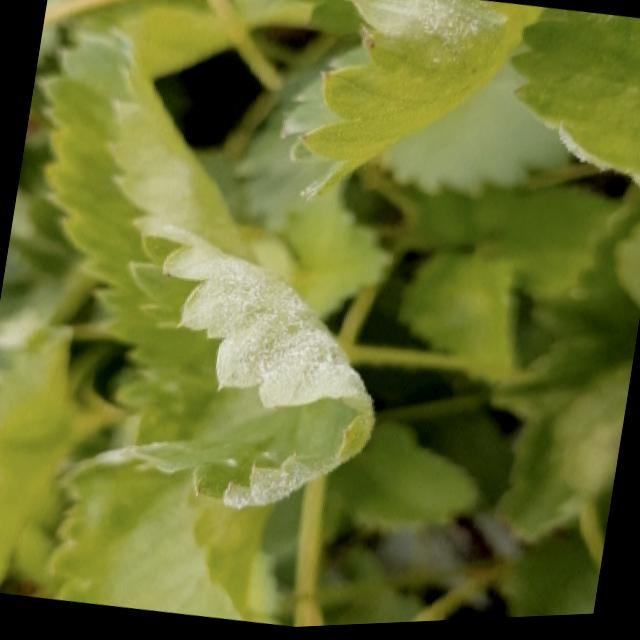Powdery Mildew Leaf: (127, 227, 377, 512), (279, 0, 542, 204), (507, 12, 640, 197)
